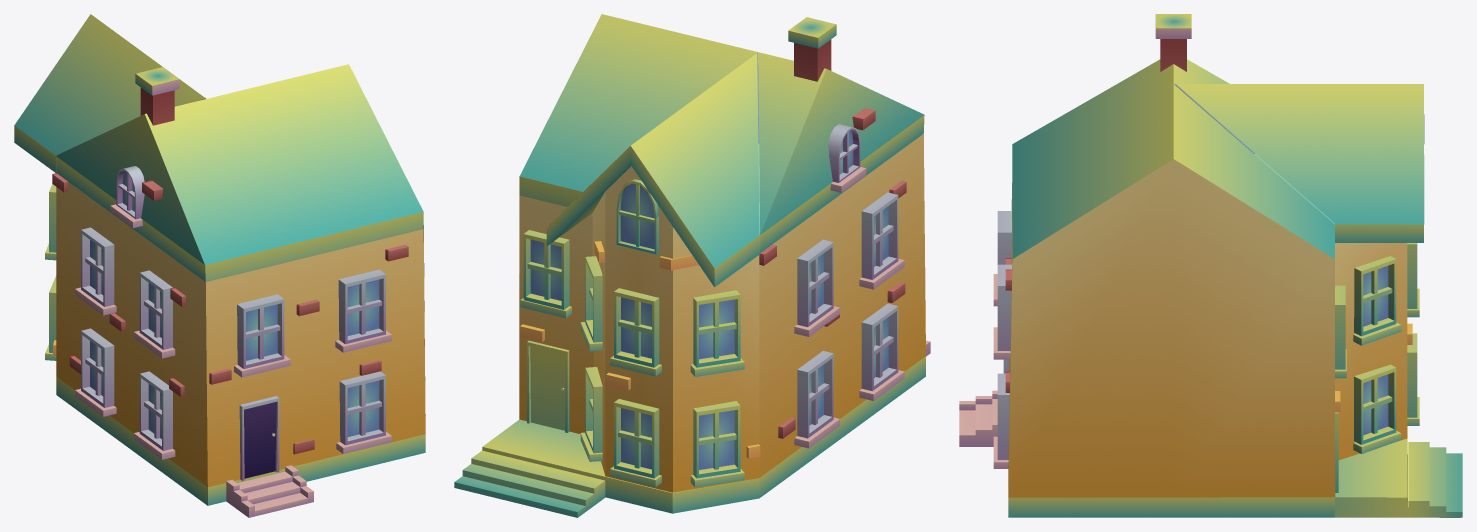
File: SM_House_R_03.fbx
3 views of the same model, side by side, from view 1: azimuth 30°, elevation 25°; view 2: azimuth 150°, elevation 25°; view 3: azimuth 270°, elevation 25° (orthographic). The views are drawn at different scales.
Visible parts, largest first — view 1: SM_House_R_03; view 2: SM_House_R_03; view 3: SM_House_R_03.
Part boxes in pixels (left/top/right/bottom): SM_House_R_03: left=14, top=14, right=425, bottom=517; SM_House_R_03: left=454, top=14, right=930, bottom=517; SM_House_R_03: left=959, top=14, right=1462, bottom=517.
Bounding box in the file's own units: 6.99 × 12.22 × 10.62.
